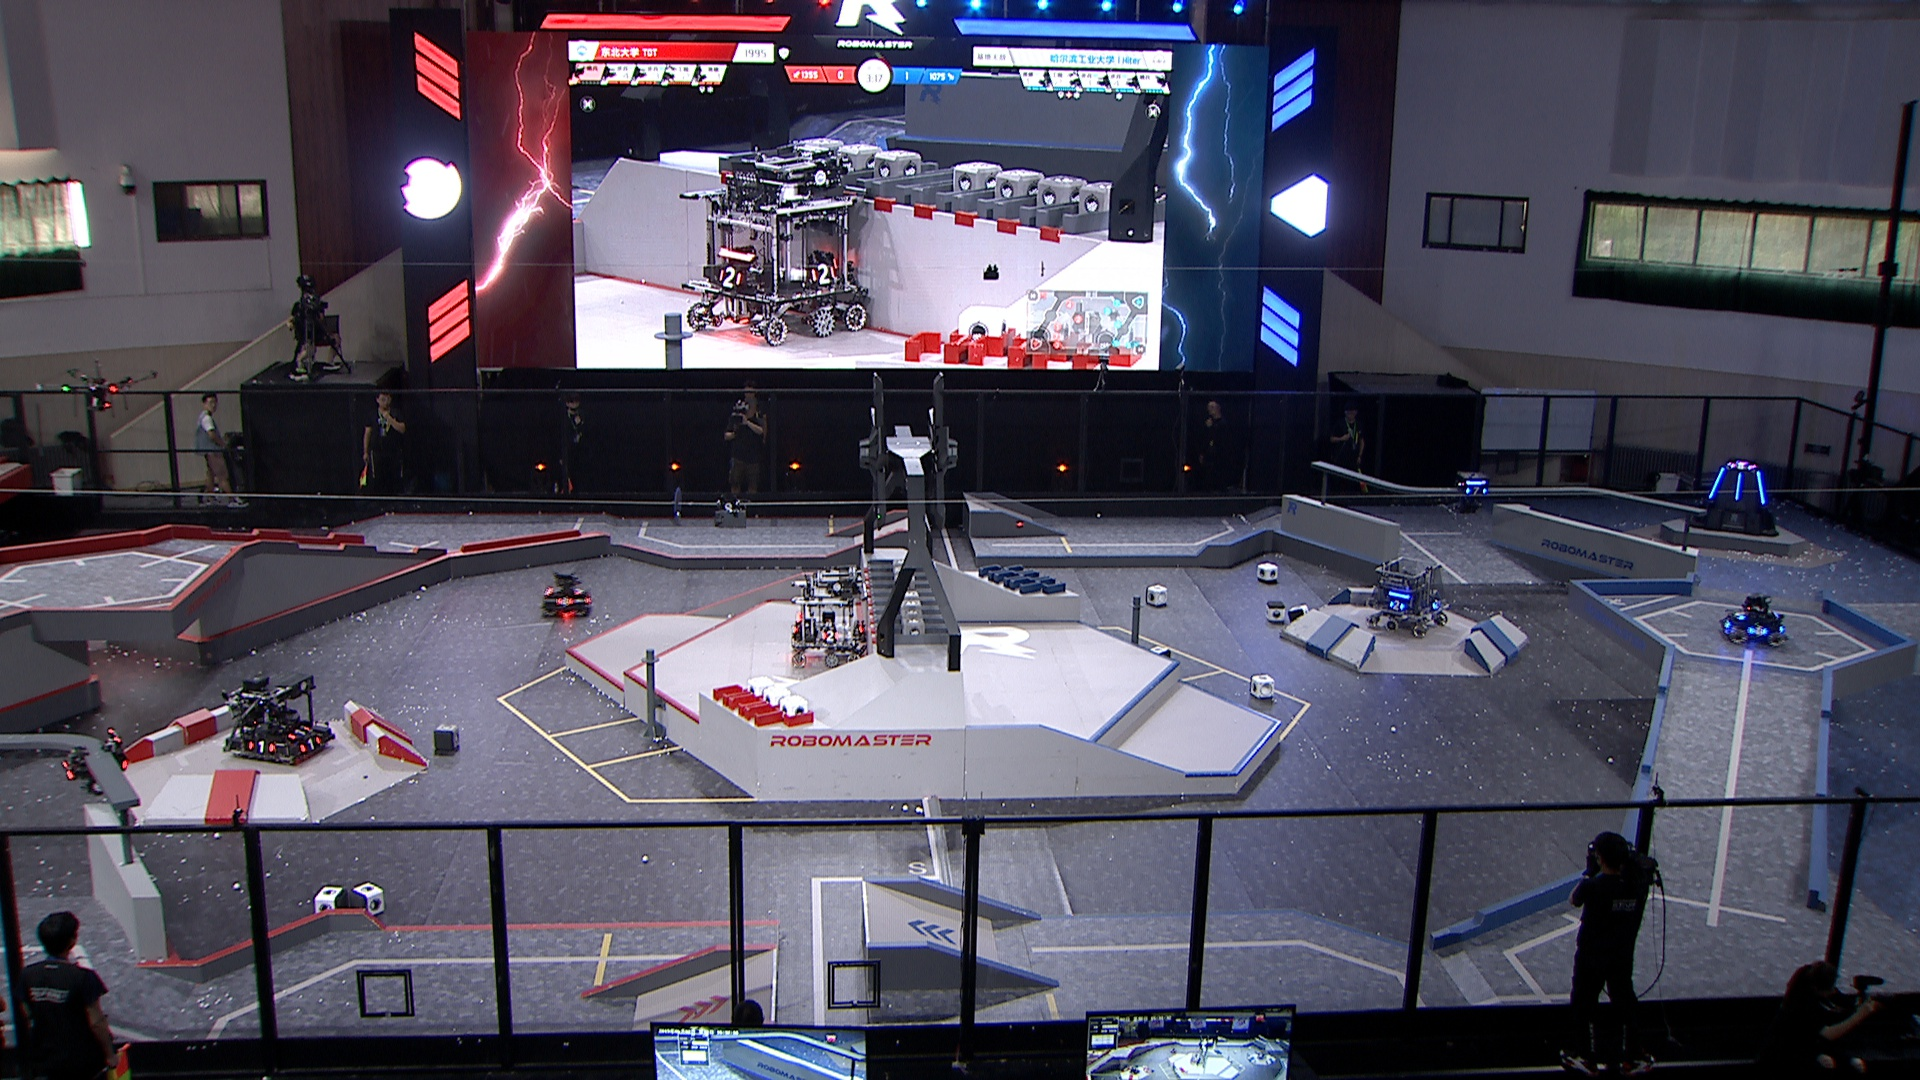armor: (1754, 465, 1771, 508), (1705, 463, 1724, 500), (285, 717, 313, 741), (245, 740, 278, 760), (57, 757, 76, 785), (295, 736, 320, 756), (1387, 595, 1408, 616), (818, 626, 841, 645), (1747, 624, 1771, 642), (1462, 484, 1489, 498), (553, 595, 575, 609), (1733, 471, 1742, 501), (1429, 597, 1447, 613), (1730, 605, 1746, 621)
base: (1680, 460, 1780, 535)
car: (216, 673, 340, 767), (785, 566, 870, 669), (1362, 553, 1453, 637), (1717, 588, 1789, 647), (538, 564, 595, 618)
ignore: (673, 144, 876, 345), (1730, 462, 1759, 472)
watcher: (55, 725, 135, 799), (1451, 469, 1493, 518)
